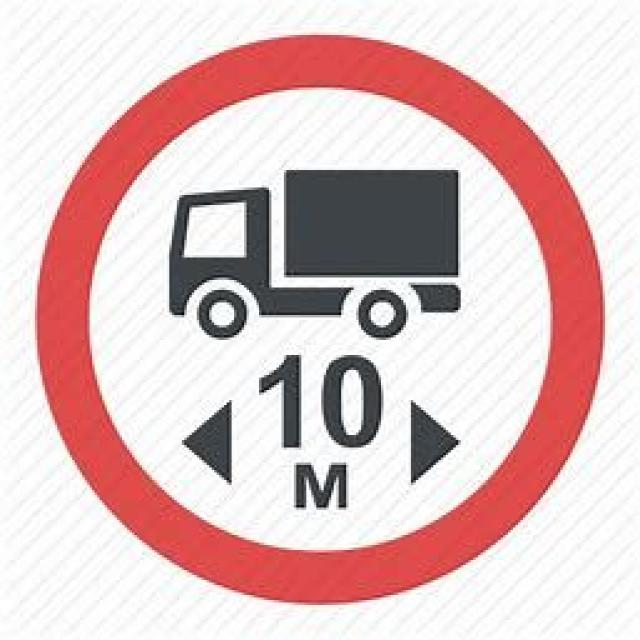LENGTH_LIMIT: (38, 35, 605, 607)
